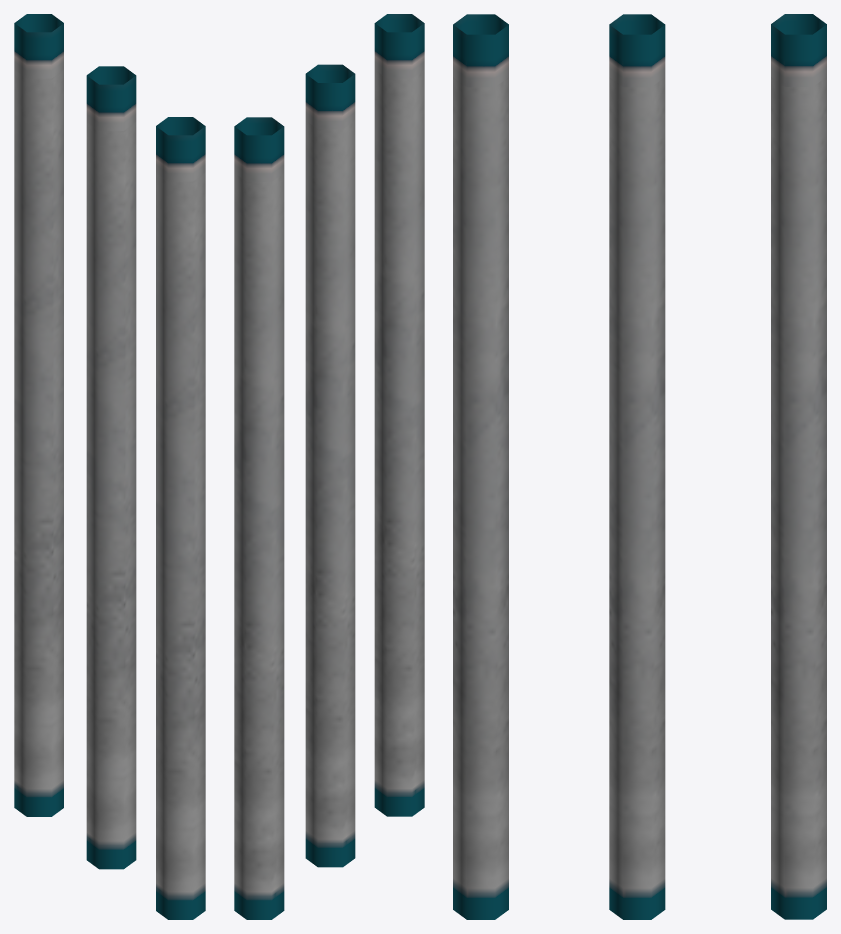
The model's file is CP_Pipe_A_1m_01.fbx.
The picture shows the model from 3 angles, left to right: view 1: azimuth 30°, elevation 25°; view 2: azimuth 150°, elevation 25°; view 3: azimuth 270°, elevation 25°; orthographic projection. The views are drawn at different scales.
Visible parts, largest first — view 1: CP_Pipe_A_1m_01; view 2: CP_Pipe_A_1m_01; view 3: CP_Pipe_A_1m_01.
Part boxes in pixels (box(x1,y1,x2,y2)): CP_Pipe_A_1m_01: box(14, 14, 205, 919); CP_Pipe_A_1m_01: box(234, 14, 424, 919); CP_Pipe_A_1m_01: box(453, 14, 826, 919).
Size of the model in its own units: 5.04 by 100 by 38.29.
